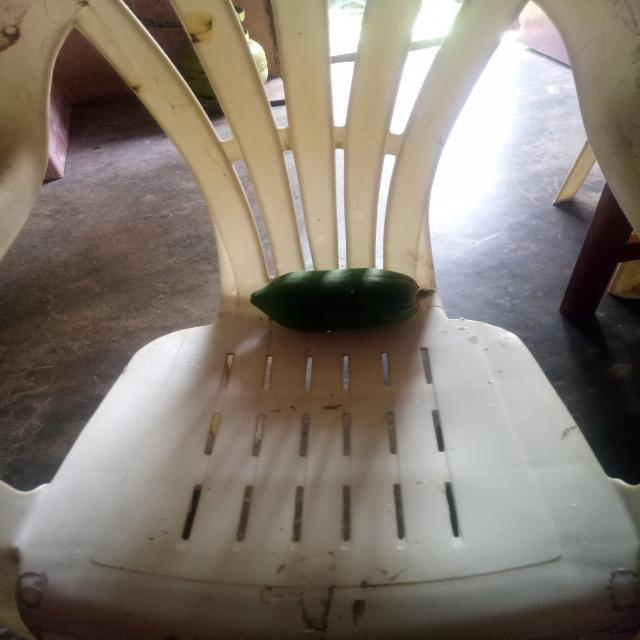Pepaya unrippen: (248, 270, 437, 332)
